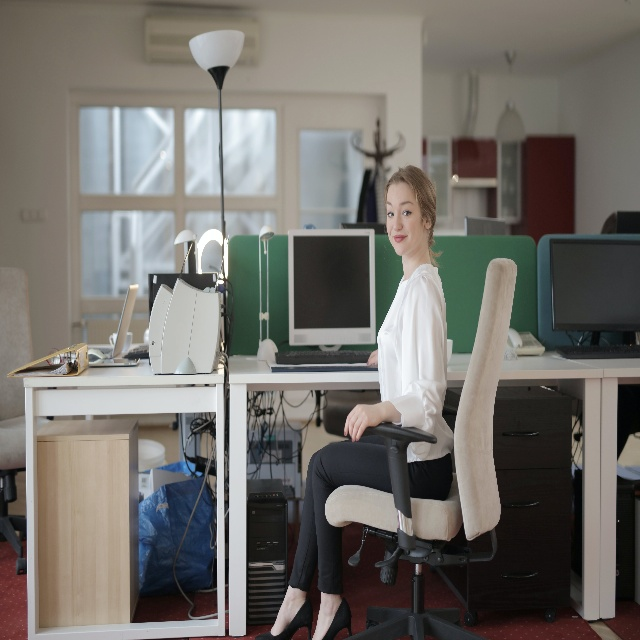Gafas: (45, 347, 77, 366)
Sin_guantes: (345, 403, 380, 442), (366, 348, 377, 367)
